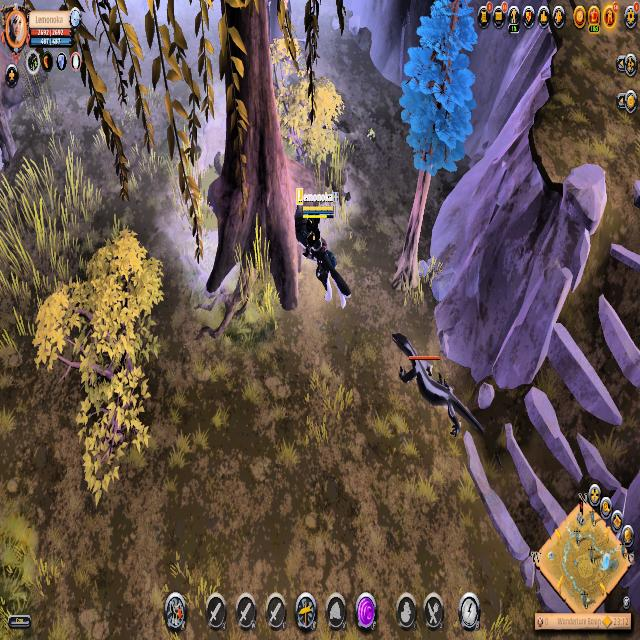wood tier 4: (402, 0, 479, 177)
